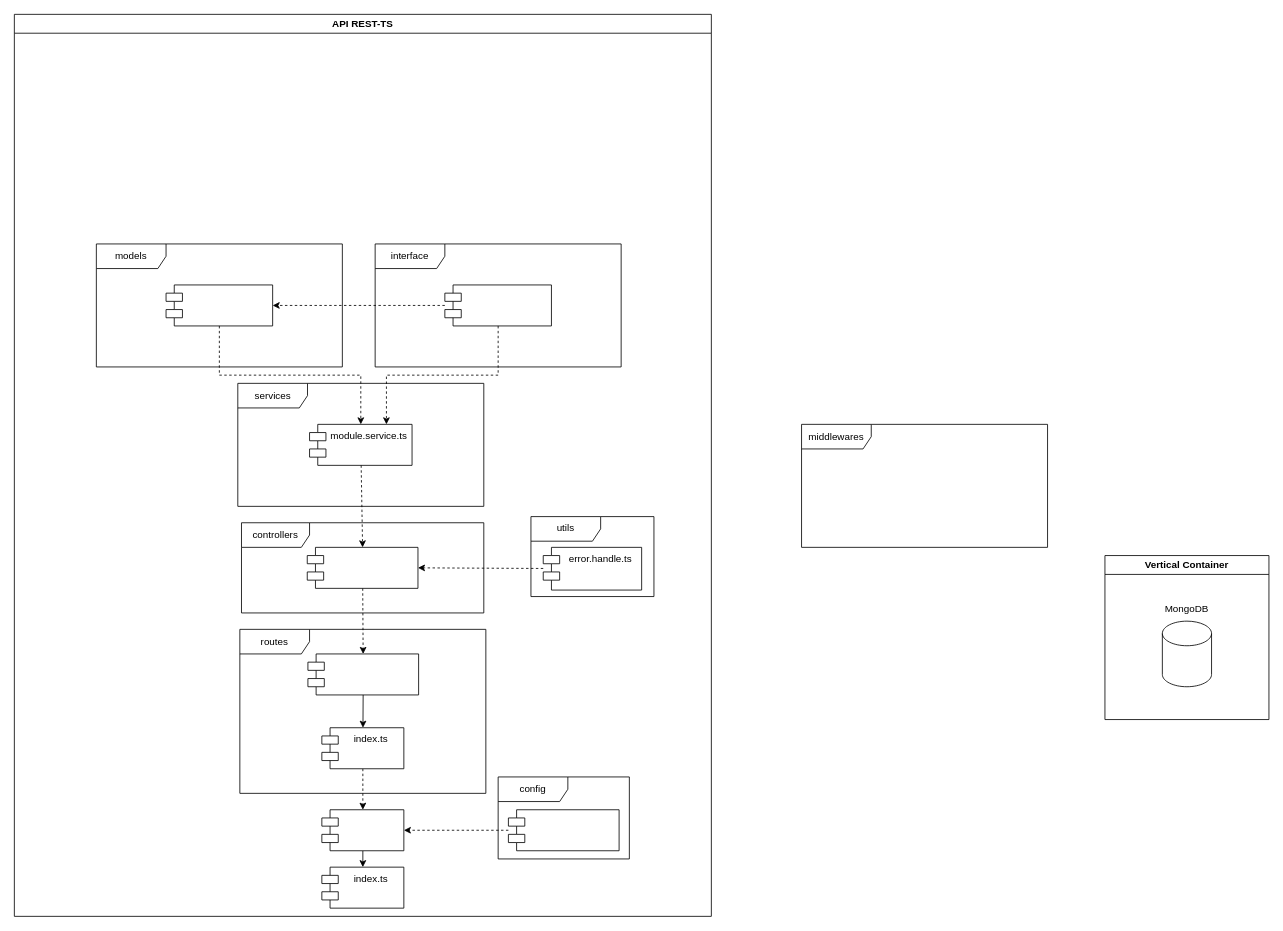
Some shapes in this 1283 by 931 pixel diagram are drawn without their labels. Here are the shapes that lost their labels. From the top down, the centre of each, then its label:
At pixel 219 305: "module.model.ts".
At pixel 497 305: "module.interface.ts".
At pixel 362 567: "module.controller.ts".
At pixel 1187 653: "rest-ts".
At pixel 363 674: "module.routes.ts".
At pixel 362 830: "app.ts".
At pixel 563 830: "mongo.ts".
